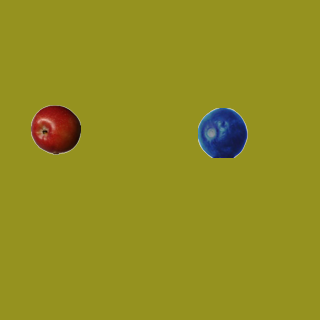Apple Braeburn: (30, 104, 80, 154)
Huckleberry: (197, 107, 247, 157)
